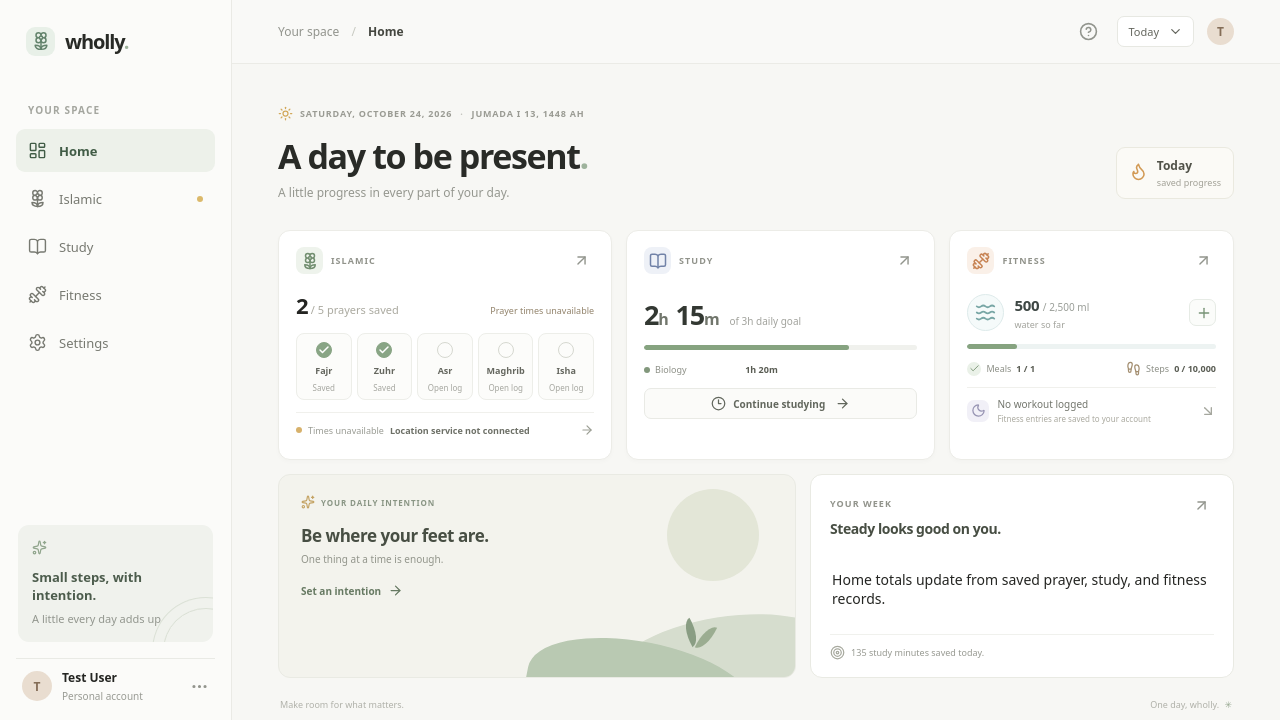
account-backed dashboard › shows saved dashboard totals and sends prayer navigation to the Islamic tracker
The width and height of the screenshot is (1280, 720).
expect the text "2" is shown: met, box top-left (296, 290), bottom-right (308, 320)
Click the button with aria-label "Open Asr prayer log" at (445, 366), box top-left (417, 333), bottom-right (473, 400)
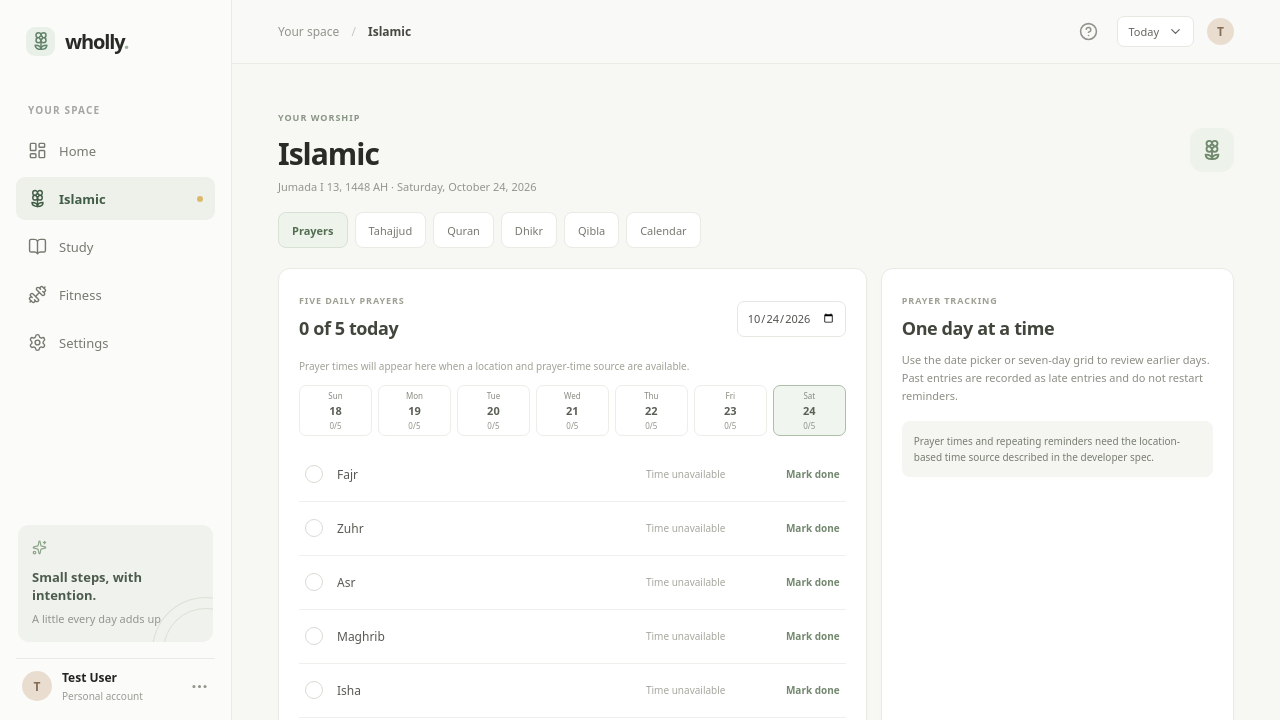
expect the text "YOUR WORSHIP" is shown: met, box top-left (278, 111), bottom-right (360, 124)
